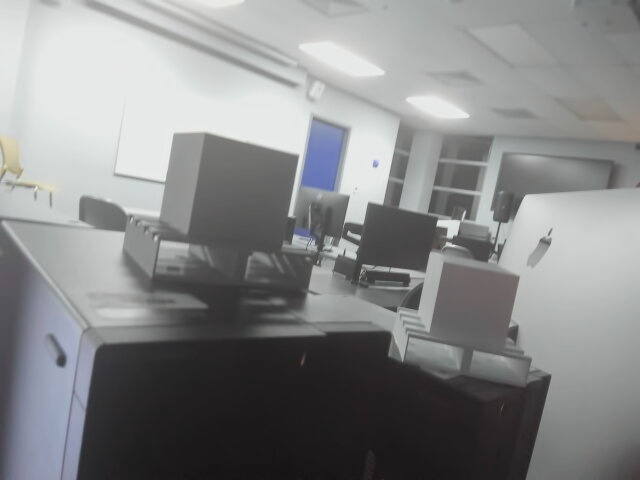grey pallet: (117, 128, 322, 300)
white pallet: (386, 244, 543, 395)
